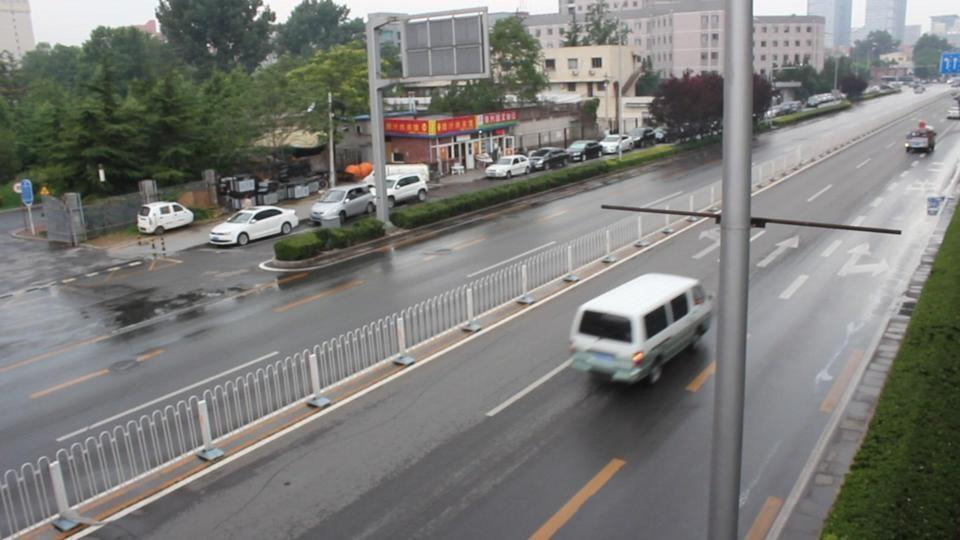car: (568, 272, 715, 386), (208, 206, 298, 247), (309, 186, 376, 228), (355, 170, 430, 207), (136, 202, 194, 236), (484, 155, 534, 180), (600, 131, 654, 154), (526, 147, 571, 172), (904, 126, 937, 155), (566, 140, 603, 163), (625, 127, 663, 149), (805, 90, 844, 109), (600, 135, 632, 157), (947, 105, 960, 120)
